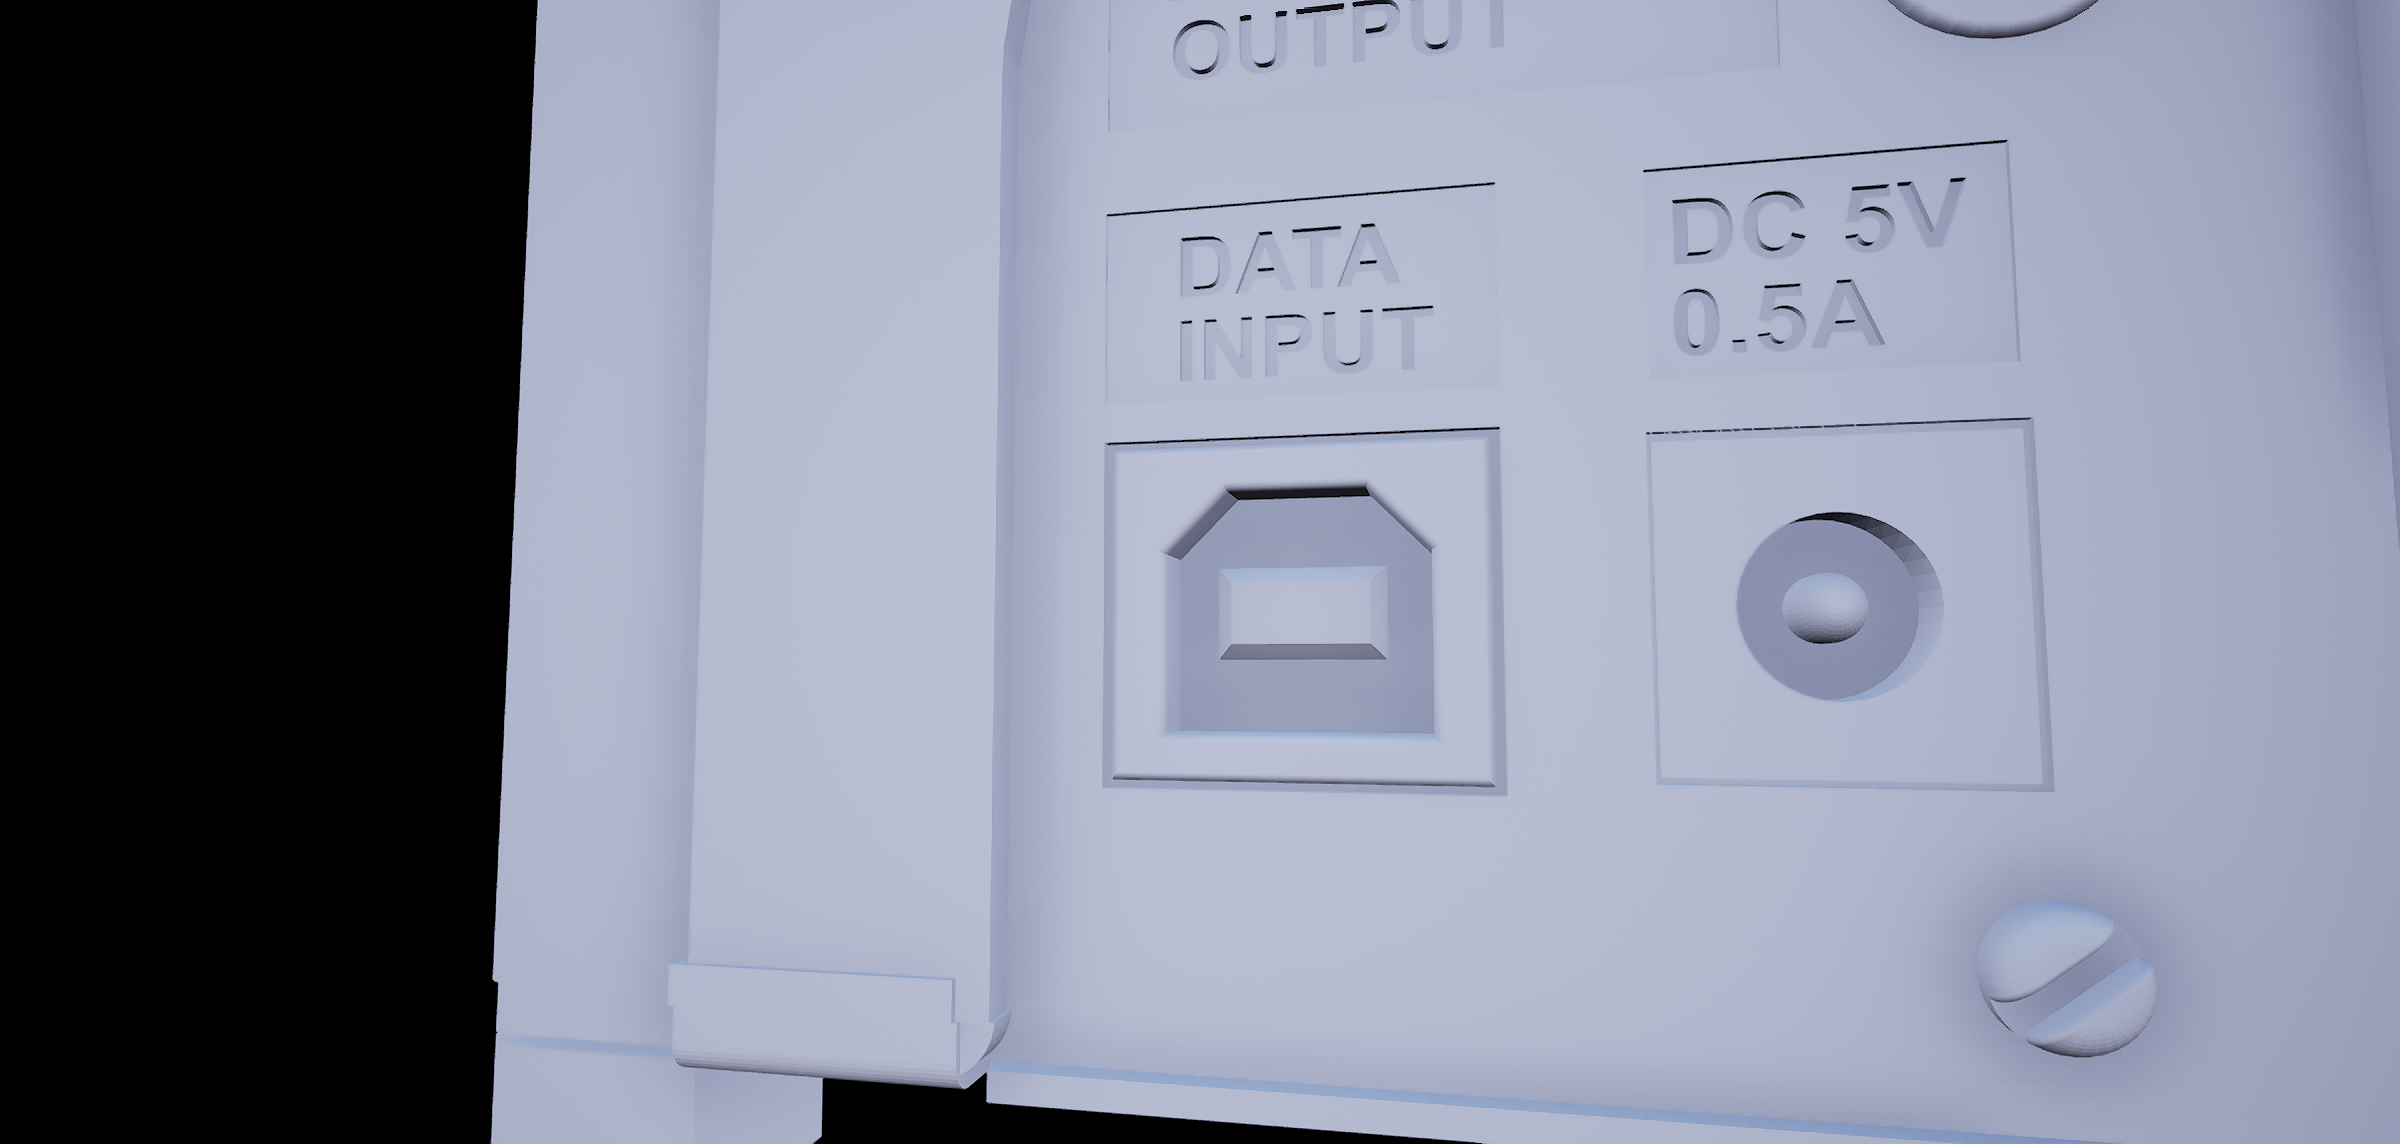dc: (1733, 502, 1978, 726)
usb: (1153, 473, 1465, 749)
